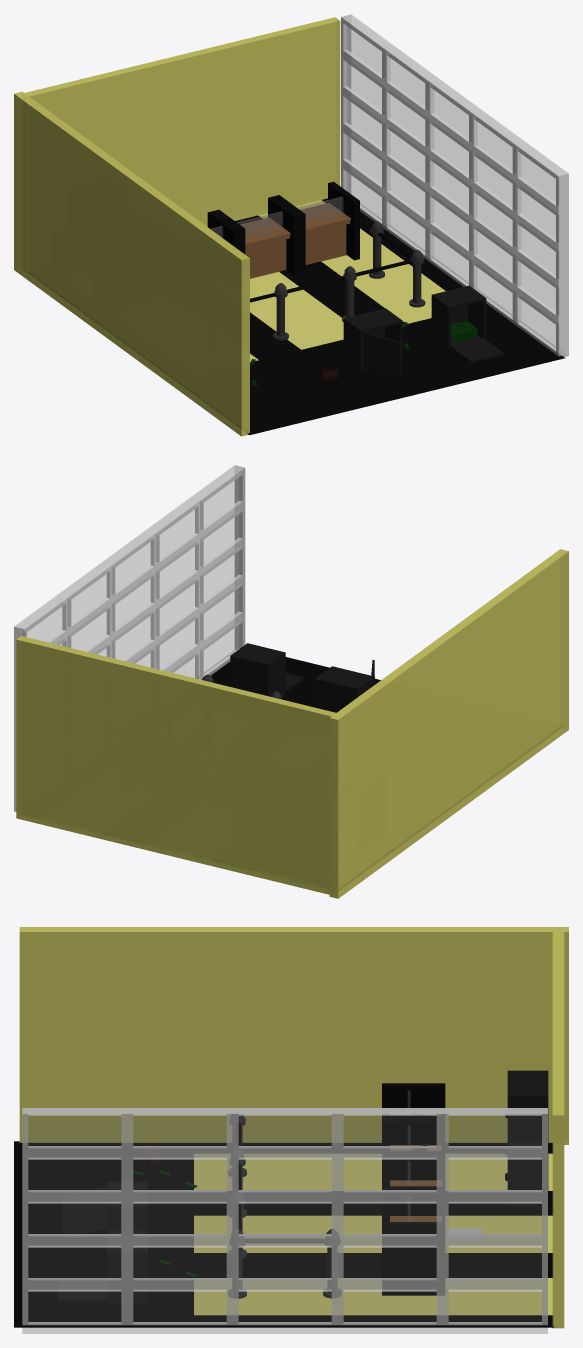
File: bank.fbx
The picture shows the model from 3 angles, top to bottom: view 1: azimuth 30°, elevation 25°; view 2: azimuth 150°, elevation 25°; view 3: azimuth 270°, elevation 25°; orthographic projection. The views are drawn at different scales.
Visible parts, largest first — view 1: Mesh; view 2: Mesh; view 3: Mesh.
Boxes of the visible parts, x1,y1,x2,y2 form: Mesh: (14, 14, 568, 436); Mesh: (14, 465, 568, 898); Mesh: (14, 927, 568, 1333).
Size of the model in its own units: 1242 by 658 by 1505.
